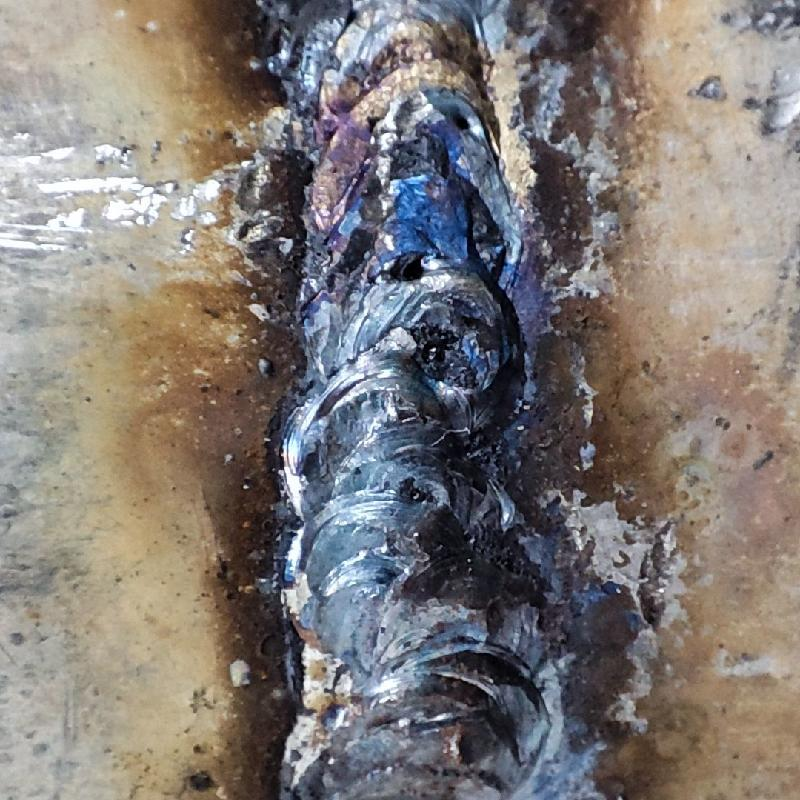Surface_pores: (380, 229, 458, 302), (404, 315, 467, 386)
